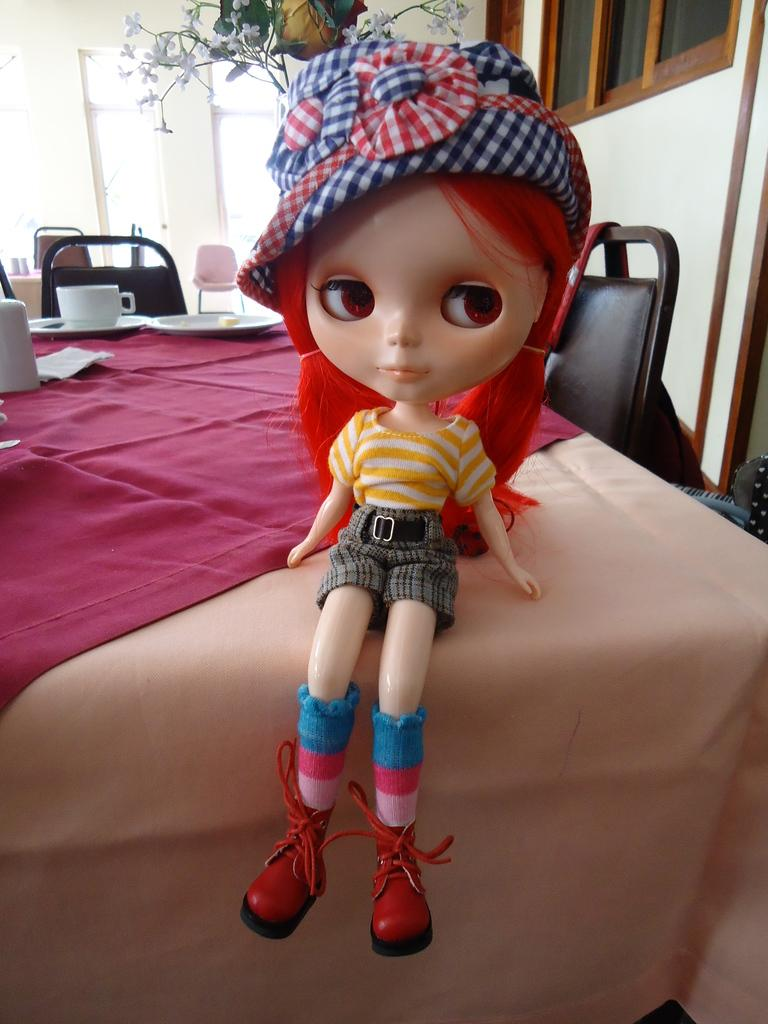Hat: (231, 34, 600, 314)
